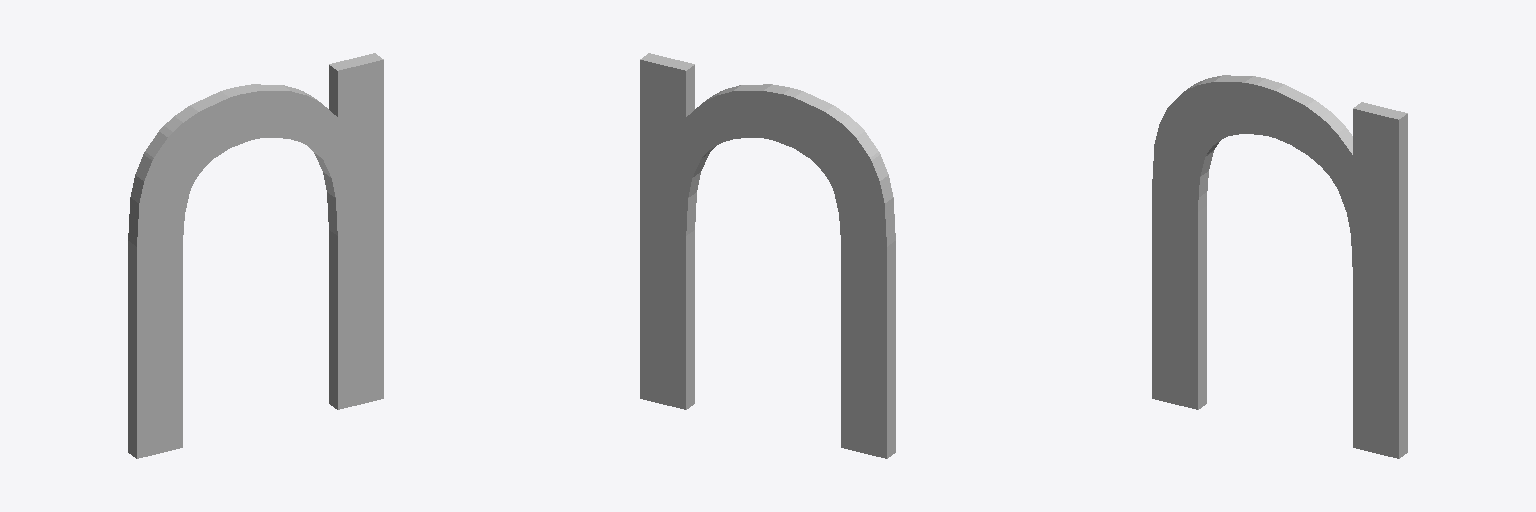
Rendered from n_lower.obj.
3 views of the same model, side by side, from view 1: azimuth 30°, elevation 25°; view 2: azimuth 150°, elevation 25°; view 3: azimuth 330°, elevation 25° (orthographic).
Visible parts, largest first — view 1: default; view 2: default; view 3: default.
Part boxes in pixels (x1,y1,x2,y2): default: (128,53,383,458); default: (640,53,895,458); default: (1152,75,1407,458).
Bounding box in the file's own units: 1.6 × 2.1 × 0.1.